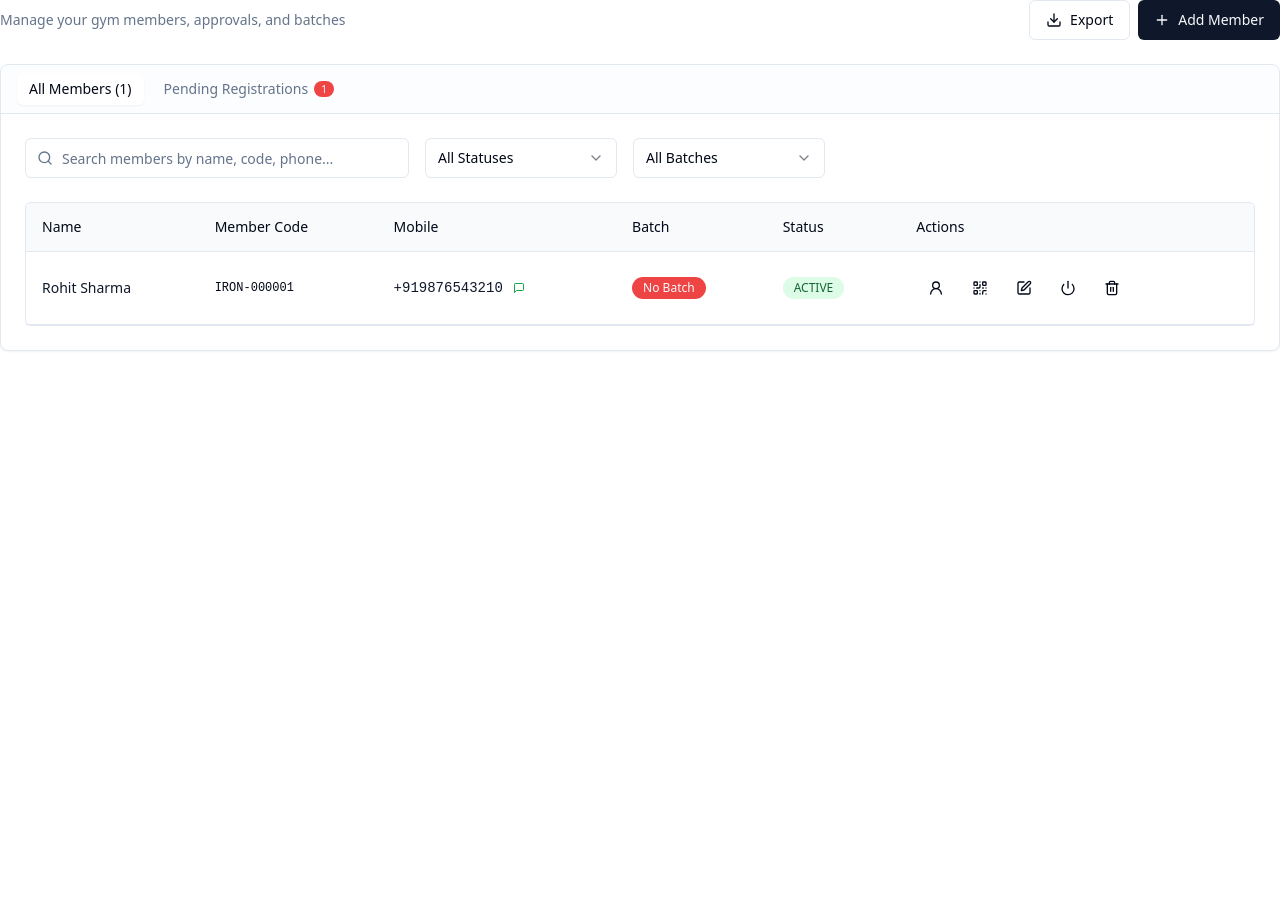
Test: MembersPage › opens the registration dialog when "Add Member" is clicked
Check: the button "Rohit Sharma" is shown, box [42,278,131,298]
Click the button "Add Member" at (1209, 20), box [1138,0,1279,40]
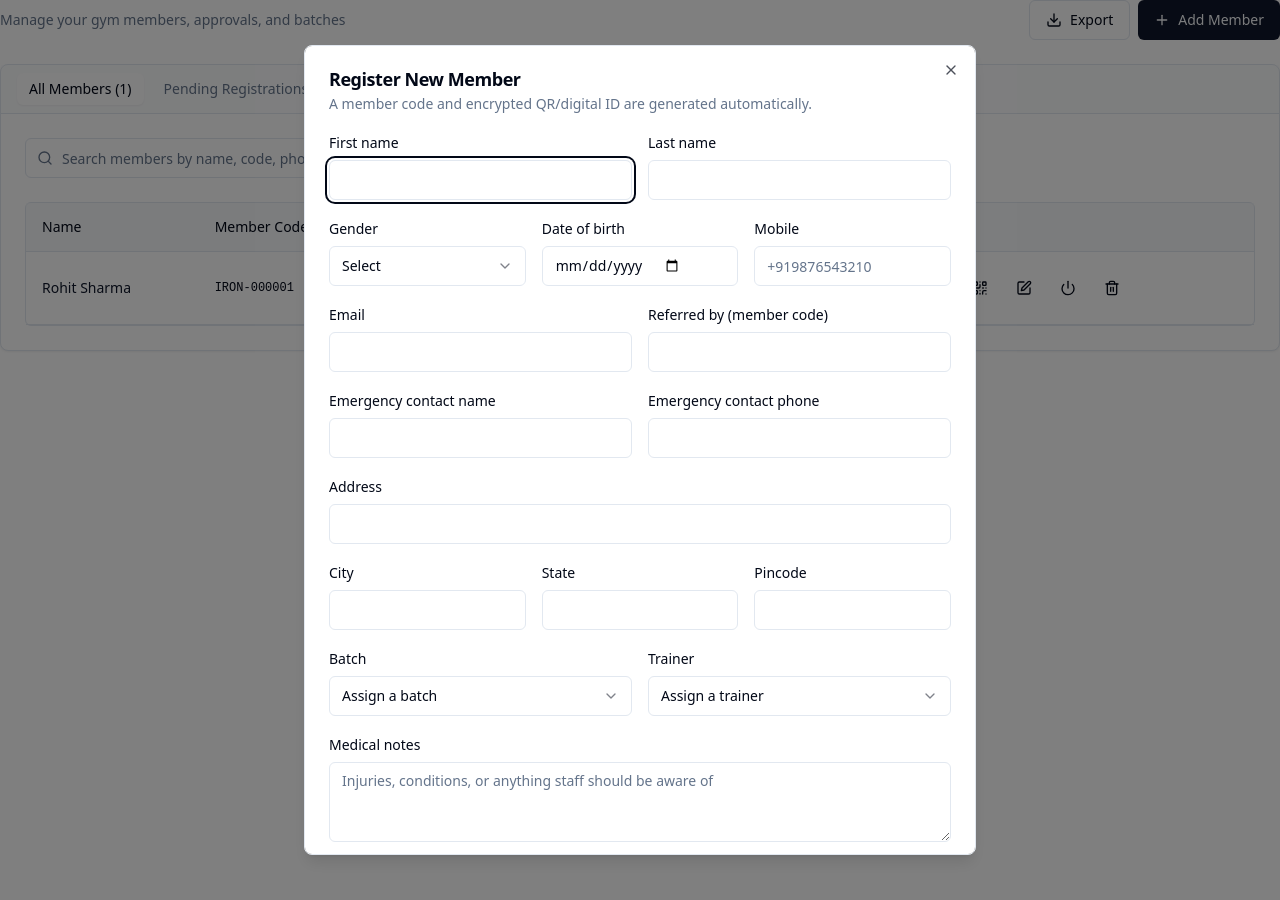
Check: the heading "Register New Member" is shown, box [329,67,521,91]
